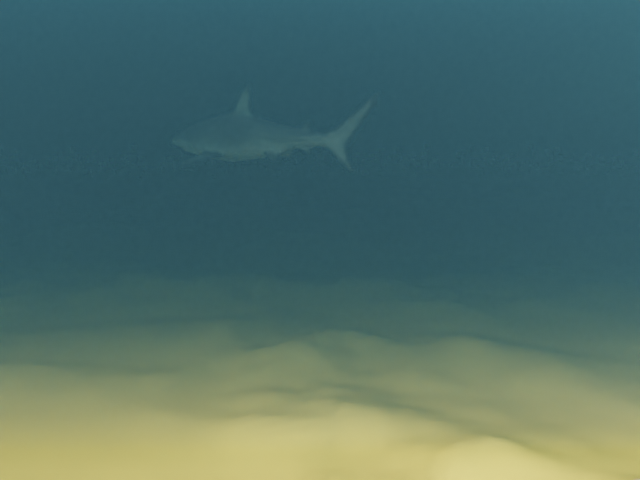Carribean Shark.001: (171, 85, 379, 171)
